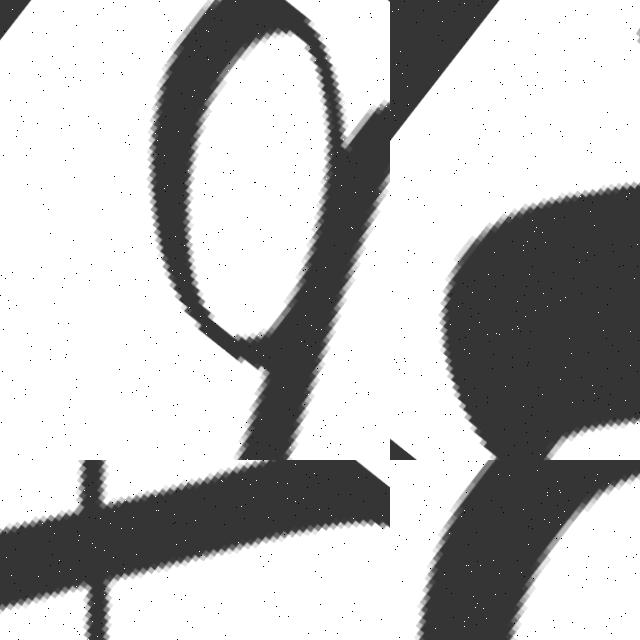C: (413, 460, 640, 640)
D: (0, 0, 390, 460)
S: (390, 0, 640, 460)
X: (0, 460, 390, 640)
